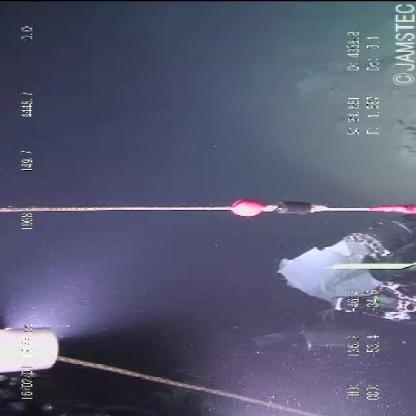Rác: (263, 233, 393, 310)
